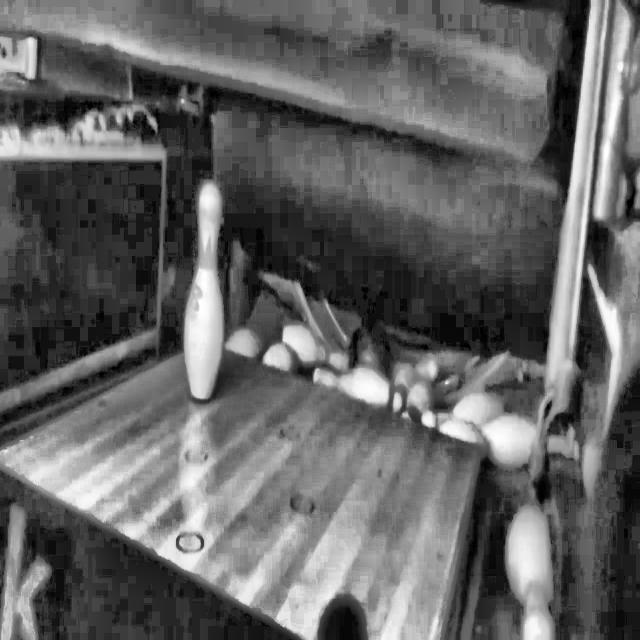bowling-pins: (184, 182, 224, 400)
